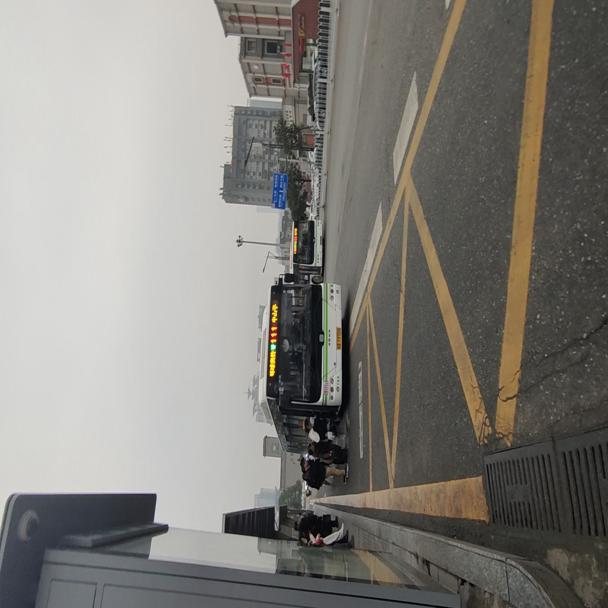bus: (258, 270, 344, 456), (287, 216, 325, 271)
screen: (268, 320, 278, 343)
